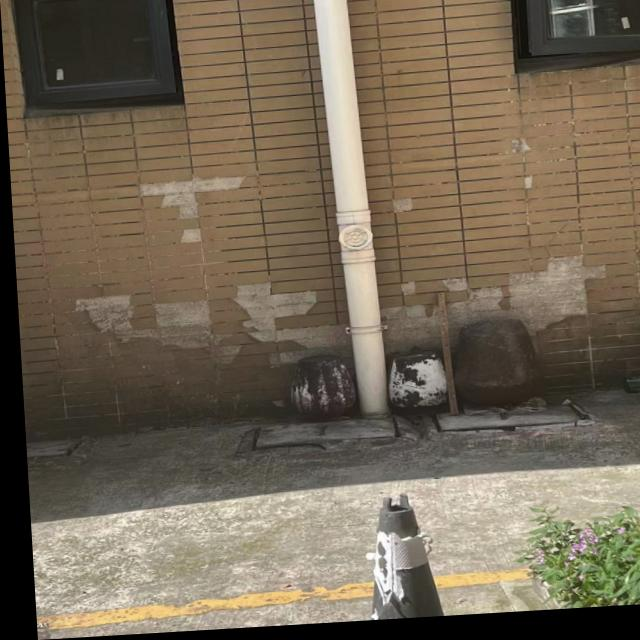spalling: (59, 277, 352, 372), (381, 246, 622, 354), (131, 170, 257, 254), (382, 190, 427, 220)
